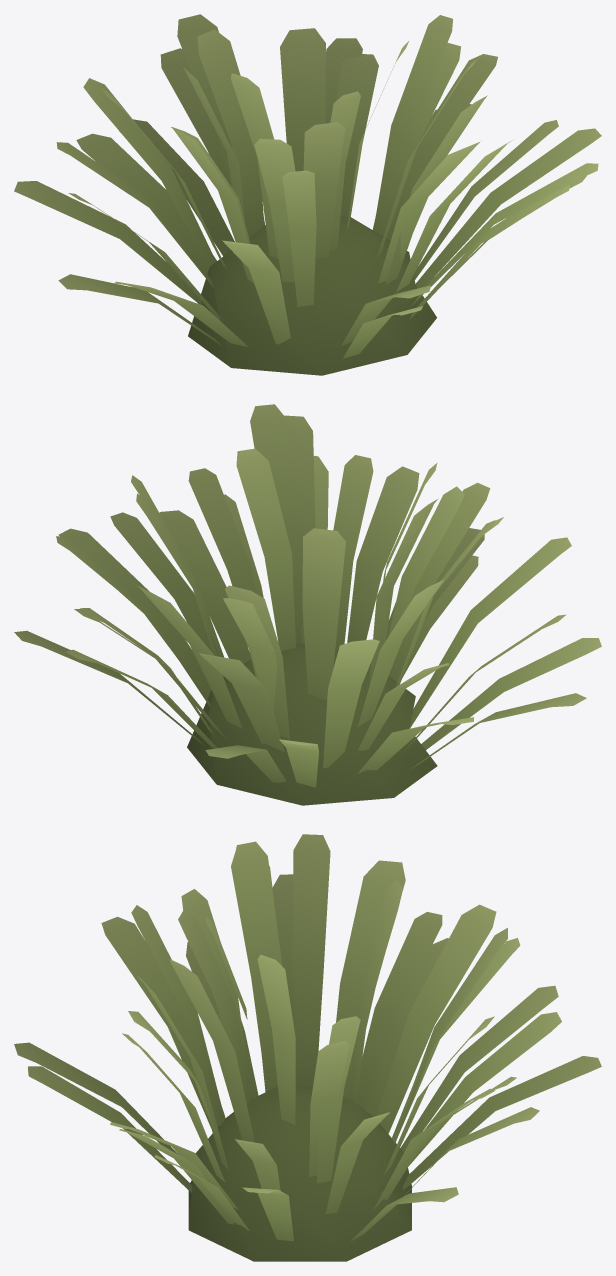
Rendered from tuft-a.glb.
3 renders of one model, top to bottom at view 1: azimuth 30°, elevation 25°; view 2: azimuth 150°, elevation 25°; view 3: azimuth 270°, elevation 25°, orthographic. The views are drawn at different scales.
Visible parts, largest first — view 1: tuft_a_grass_tuft; view 2: tuft_a_grass_tuft; view 3: tuft_a_grass_tuft.
Boxes of the visible parts, <box> form: tuft_a_grass_tuft: <box>14,14,601,375</box>; tuft_a_grass_tuft: <box>14,404,601,805</box>; tuft_a_grass_tuft: <box>14,834,601,1261</box>.
Size of the model in its own units: 0.5625 by 0.3 by 0.5098.
